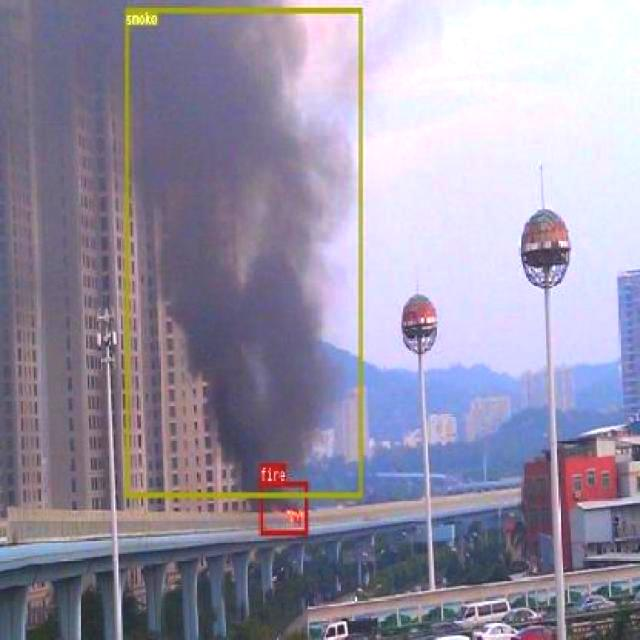fire: (258, 480, 308, 534)
smoke: (125, 7, 362, 496)
